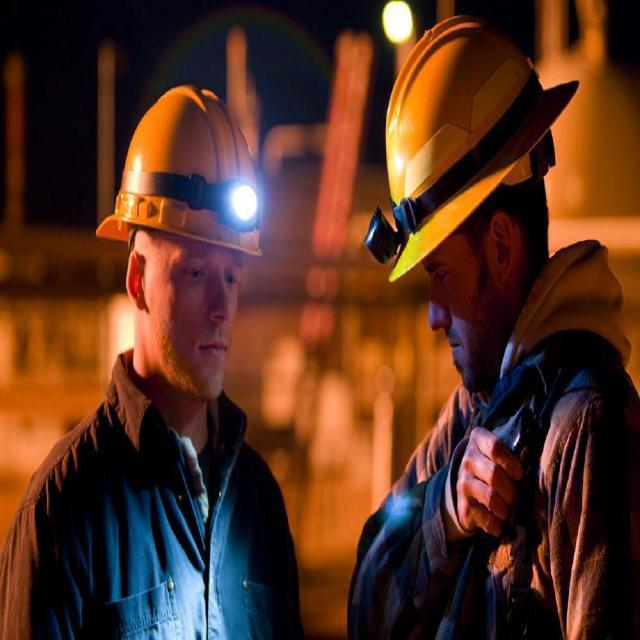face_nomask: (140, 224, 258, 397)
hand_noglove: (447, 406, 526, 545)
head_helmet: (376, 15, 579, 240), (99, 84, 277, 270)
person: (336, 21, 640, 639), (18, 57, 309, 640)
